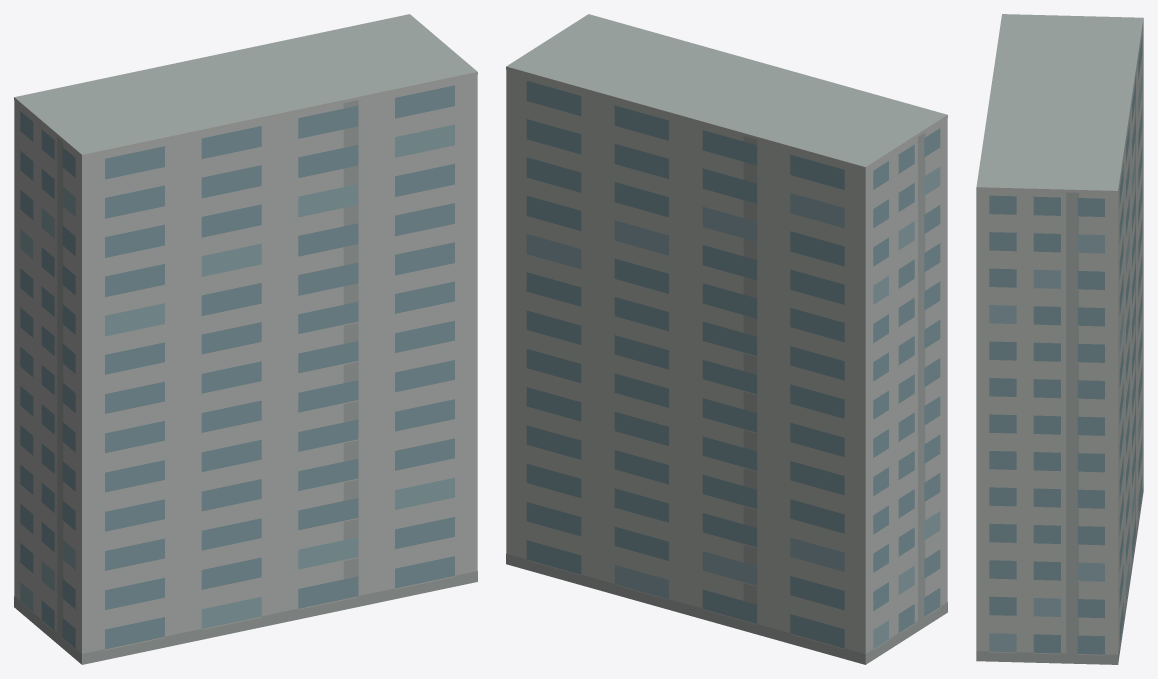
File: residential-150b91d8-0912-4a5a-a4cc-fb35c0bb8fc6.glb
3 renders of one model, left to right at view 1: azimuth 30°, elevation 25°; view 2: azimuth 150°, elevation 25°; view 3: azimuth 270°, elevation 25°, orthographic. The views are drawn at different scales.
Parts seen in each view (by area): view 1: residential-150b91d8-0912-4a5a-a4cc-fb35c0bb8fc6.tmp; view 2: residential-150b91d8-0912-4a5a-a4cc-fb35c0bb8fc6.tmp; view 3: residential-150b91d8-0912-4a5a-a4cc-fb35c0bb8fc6.tmp.
Part boxes in pixels (left/top/right/bottom): residential-150b91d8-0912-4a5a-a4cc-fb35c0bb8fc6.tmp: left=14, top=14, right=477, bottom=664; residential-150b91d8-0912-4a5a-a4cc-fb35c0bb8fc6.tmp: left=506, top=14, right=947, bottom=664; residential-150b91d8-0912-4a5a-a4cc-fb35c0bb8fc6.tmp: left=976, top=14, right=1143, bottom=664.
Size of the model in its own units: 32.03 by 40 by 12.79.
